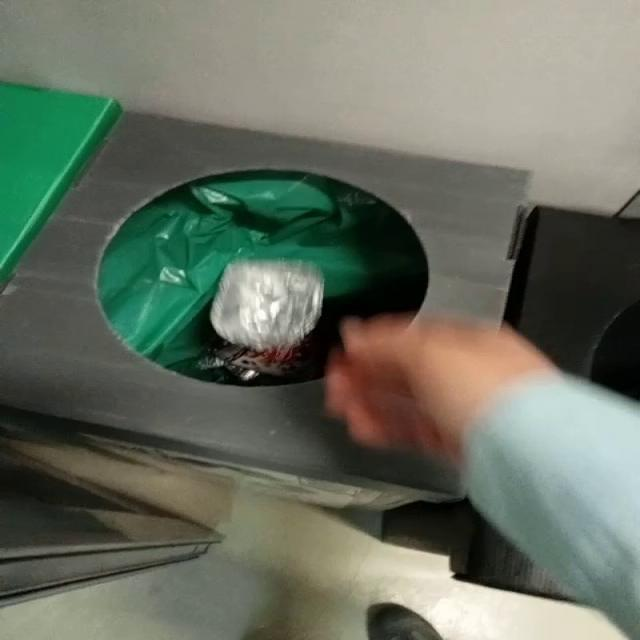bin: (1, 113, 529, 508)
metal: (211, 260, 324, 352)
